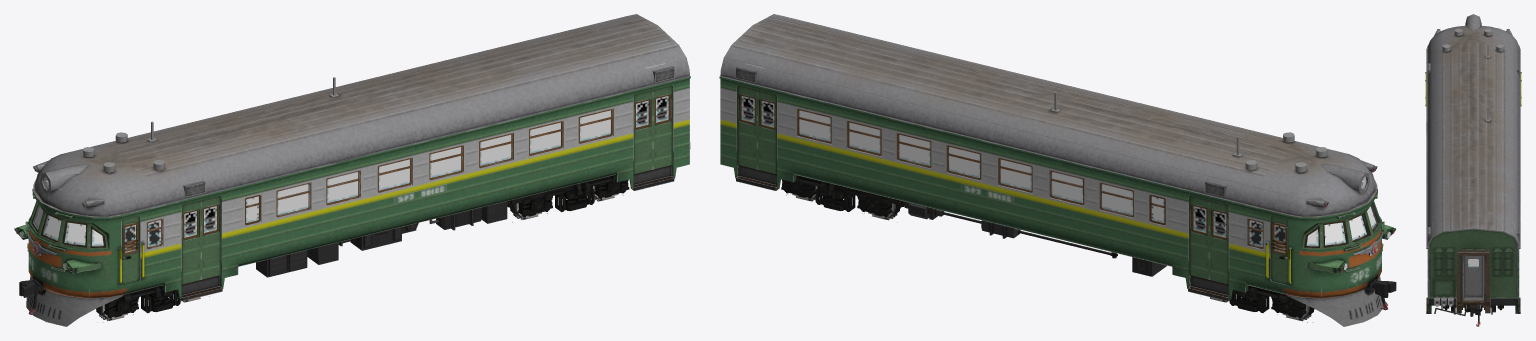
The model's file is mvp_ir_er2h.obj.
3 views of the same model, side by side, from view 1: azimuth 30°, elevation 25°; view 2: azimuth 150°, elevation 25°; view 3: azimuth 270°, elevation 25° (orthographic). The views are drawn at different scales.
Visible parts, largest first — view 1: FRAME_er2h, BOGEY_REAR_er2h, DOOR_1_TL_-0.531_X_CG_DrL_EXTERNAL_er2h, DOOR_2_TL_0.531_X_CG_DrL_EXTERNAL_er2h, DOOR_4_TL_0.531_X_CG_DrL_EXTERNAL_er2h, DOOR_3_TL_-0.531_X_CG_DrL_EXTERNAL_er2h, BOGEY_FRONT_er2h; view 2: FRAME_er2h, BOGEY_REAR_er2h, DOOR_8_TL_0.531_X_CG_DrR_EXTERNAL_er2h, DOOR_6_TL_0.531_X_CG_DrR_EXTERNAL_er2h, DOOR_5_TL_-0.531_X_CG_DrR_EXTERNAL_er2h, DOOR_7_TL_-0.531_X_CG_DrR_EXTERNAL_er2h, BOGEY_FRONT_er2h; view 3: FRAME_er2h, DOOR_14_TOGGLE_CONNECTING_er2h, BOGEY_REAR_er2h.
Boxes of the visible parts, bbox=[...] form: FRAME_er2h: bbox=[14, 14, 690, 326]; BOGEY_REAR_er2h: bbox=[507, 175, 629, 217]; DOOR_1_TL_-0.531_X_CG_DrL_EXTERNAL_er2h: bbox=[181, 200, 201, 284]; DOOR_2_TL_0.531_X_CG_DrL_EXTERNAL_er2h: bbox=[201, 196, 220, 279]; DOOR_4_TL_0.531_X_CG_DrL_EXTERNAL_er2h: bbox=[653, 85, 672, 169]; DOOR_3_TL_-0.531_X_CG_DrL_EXTERNAL_er2h: bbox=[633, 90, 652, 174]; BOGEY_FRONT_er2h: bbox=[96, 285, 180, 318]; FRAME_er2h: bbox=[719, 14, 1396, 326]; BOGEY_REAR_er2h: bbox=[781, 175, 904, 217]; DOOR_8_TL_0.531_X_CG_DrR_EXTERNAL_er2h: bbox=[737, 85, 757, 169]; DOOR_6_TL_0.531_X_CG_DrR_EXTERNAL_er2h: bbox=[1189, 196, 1209, 279]; DOOR_5_TL_-0.531_X_CG_DrR_EXTERNAL_er2h: bbox=[1209, 200, 1228, 284]; DOOR_7_TL_-0.531_X_CG_DrR_EXTERNAL_er2h: bbox=[757, 90, 776, 174]; BOGEY_FRONT_er2h: bbox=[1229, 285, 1314, 318]; FRAME_er2h: bbox=[1425, 14, 1521, 326]; DOOR_14_TOGGLE_CONNECTING_er2h: bbox=[1463, 256, 1483, 297]; BOGEY_REAR_er2h: bbox=[1443, 305, 1503, 311].
Size of the model in its own units: 21 by 5.05 by 3.74.
